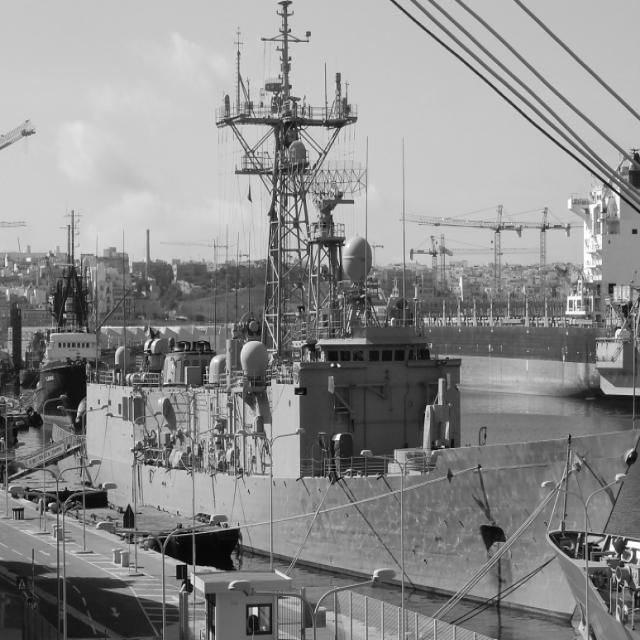Fragata: (43, 1, 640, 631)
